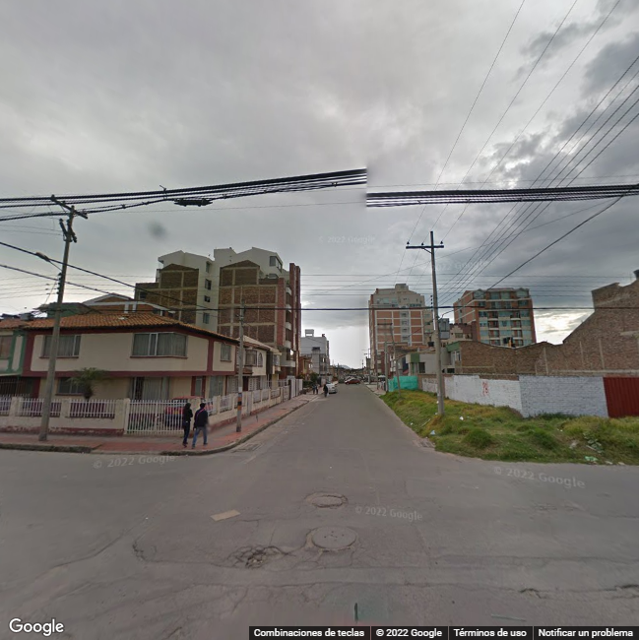D00: (17, 557, 65, 596), (405, 514, 439, 564), (86, 524, 129, 558), (219, 581, 252, 617)
D10: (143, 551, 227, 571), (233, 517, 293, 520)
D40: (238, 541, 274, 568)
